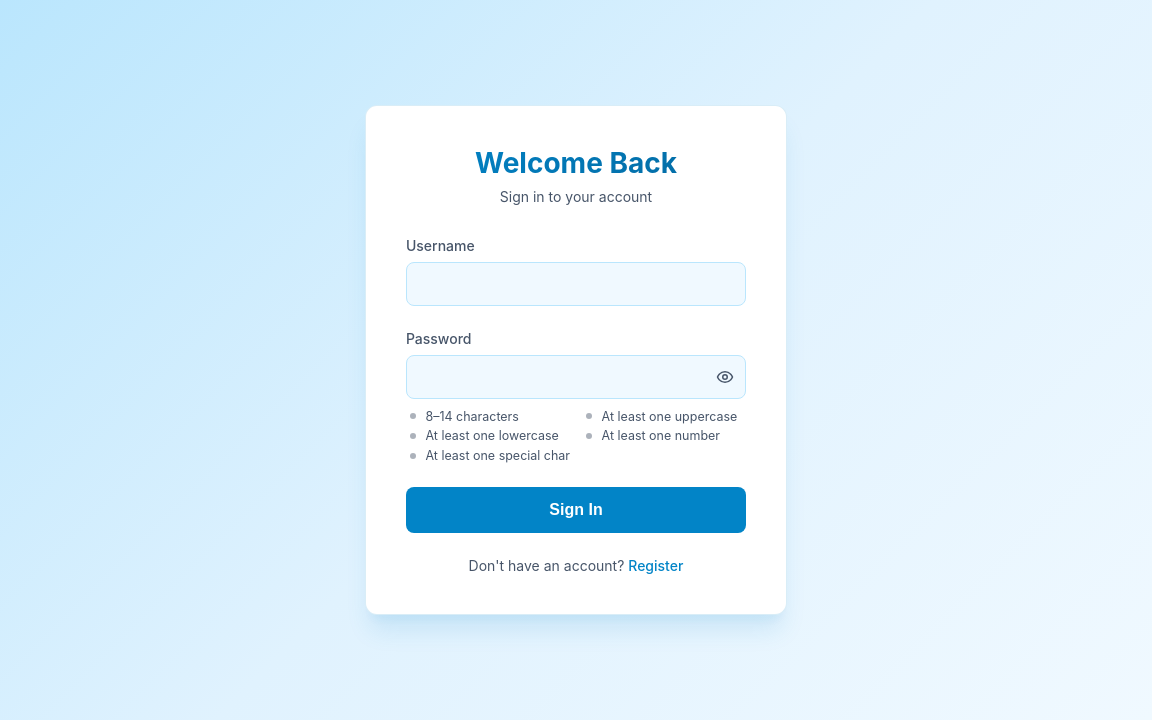
Login page › disables the submit button while loading
The width and height of the screenshot is (1152, 720).
Type "user" into the field labelled "Username".
click(576, 284); type("user")  # box [406,262,746,306]
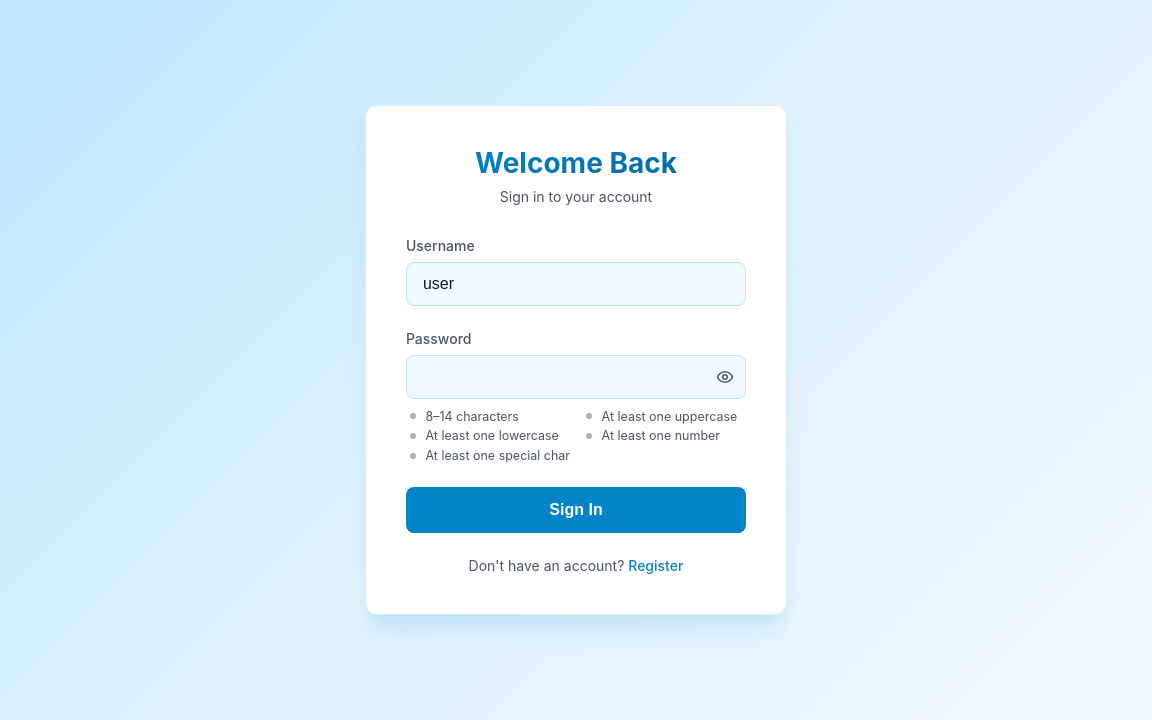
Type "Test@123" into the password field labelled "Password".
click(576, 377); type("Test@123")  # box [406,355,746,399]
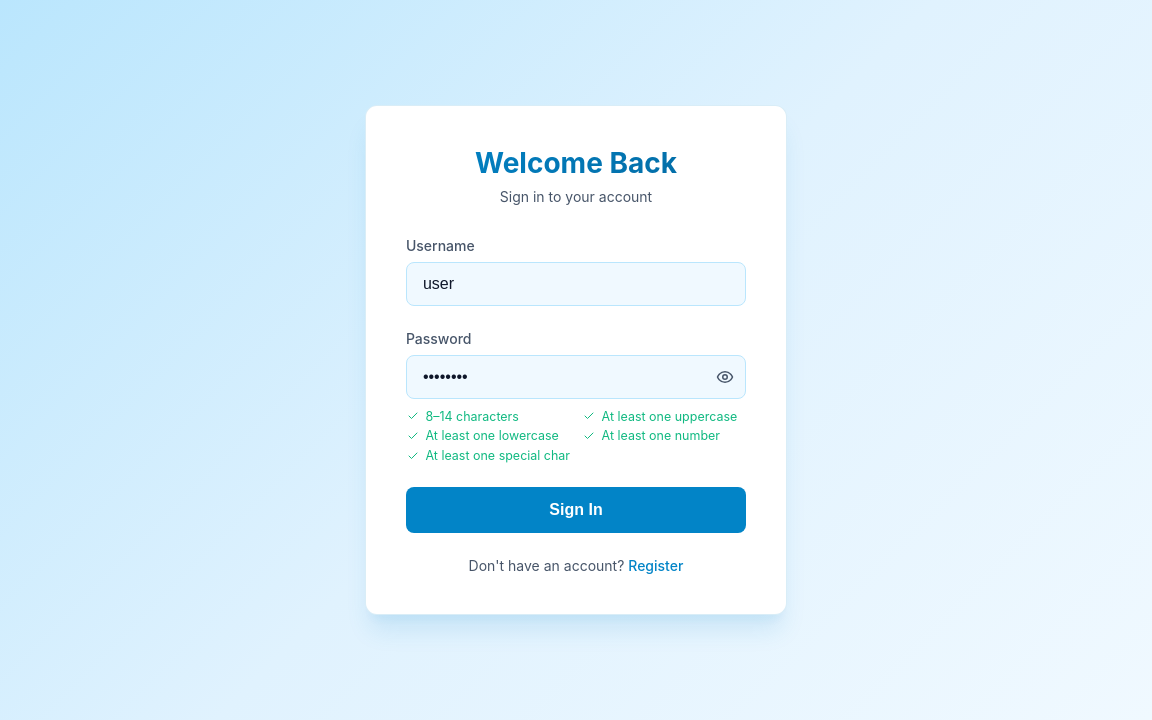
Click the button "Sign In".
click(576, 510)  # box [406,487,746,533]
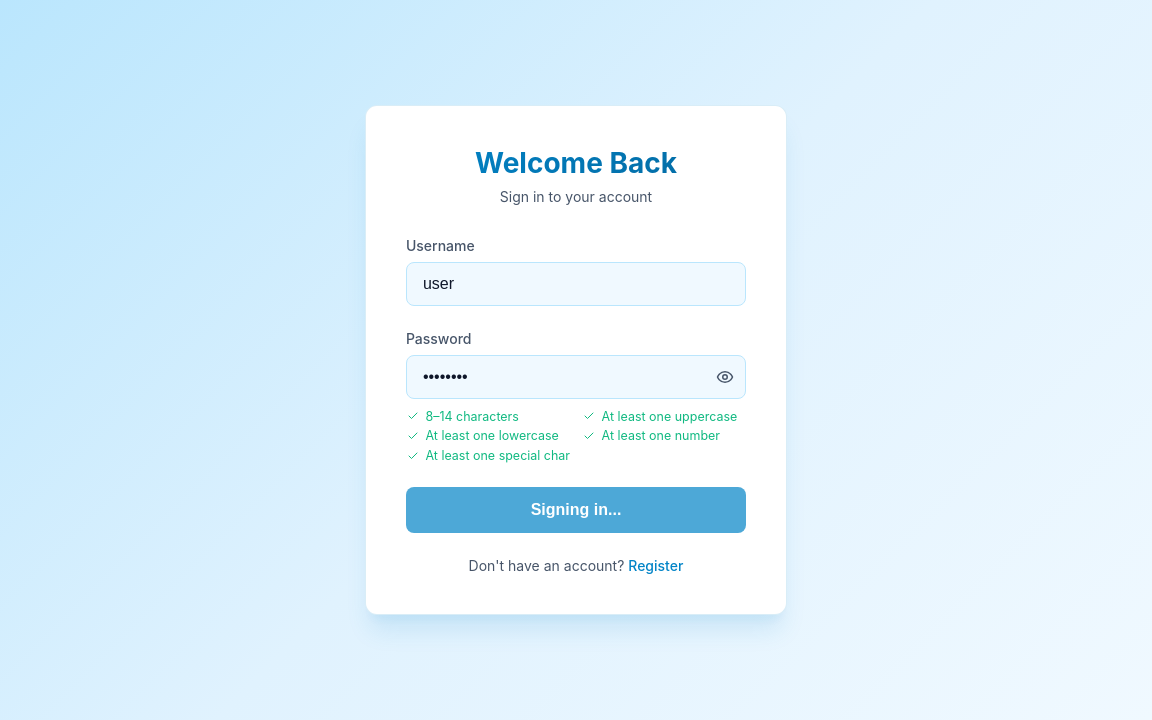
Expected: the button "Signing in..." is disabled, [406,487,746,533]
